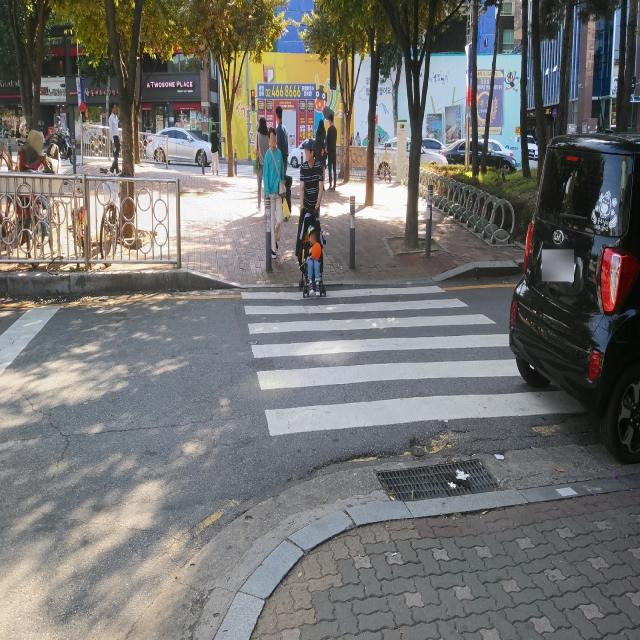횡단보도: (238, 281, 588, 439)
